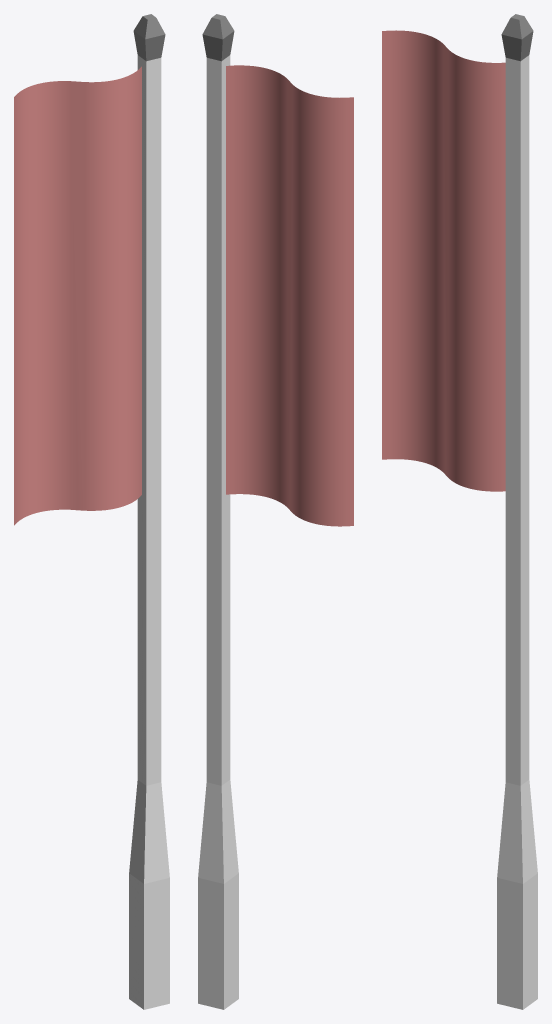
The model's file is flagRed.gltf.
3 views of the same model, side by side, from view 1: azimuth 30°, elevation 25°; view 2: azimuth 150°, elevation 25°; view 3: azimuth 330°, elevation 25° (orthographic).
Visible parts, largest first — view 1: flagRed, Group; view 2: flagRed, Group; view 3: flagRed, Group.
Boxes of the visible parts, x1,y1,x2,y2 form: flagRed: (14,66,141,525); Group: (129,14,169,1009); flagRed: (226,65,353,526); Group: (198,14,238,1009); flagRed: (382,30,505,491); Group: (497,14,537,1009).
Bounding box in the file's own units: 1.97 × 12.5 × 0.352.
